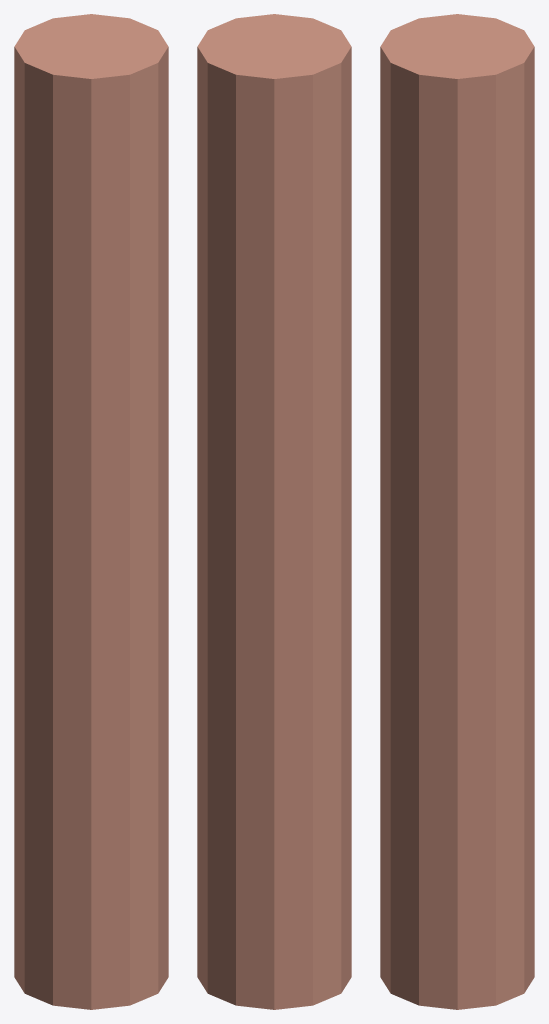
The model's file is chimney.glb.
3 views of the same model, side by side, from view 1: azimuth 30°, elevation 25°; view 2: azimuth 150°, elevation 25°; view 3: azimuth 270°, elevation 25° (orthographic).
Visible parts, largest first — view 1: chimney; view 2: chimney; view 3: chimney.
Boxes of the visible parts, x1,y1,x2,y2 form: chimney: (14,14,168,1009); chimney: (197,14,351,1009); chimney: (380,14,534,1009).
Bounding box in the file's own units: 0.15 × 1 × 0.15.
